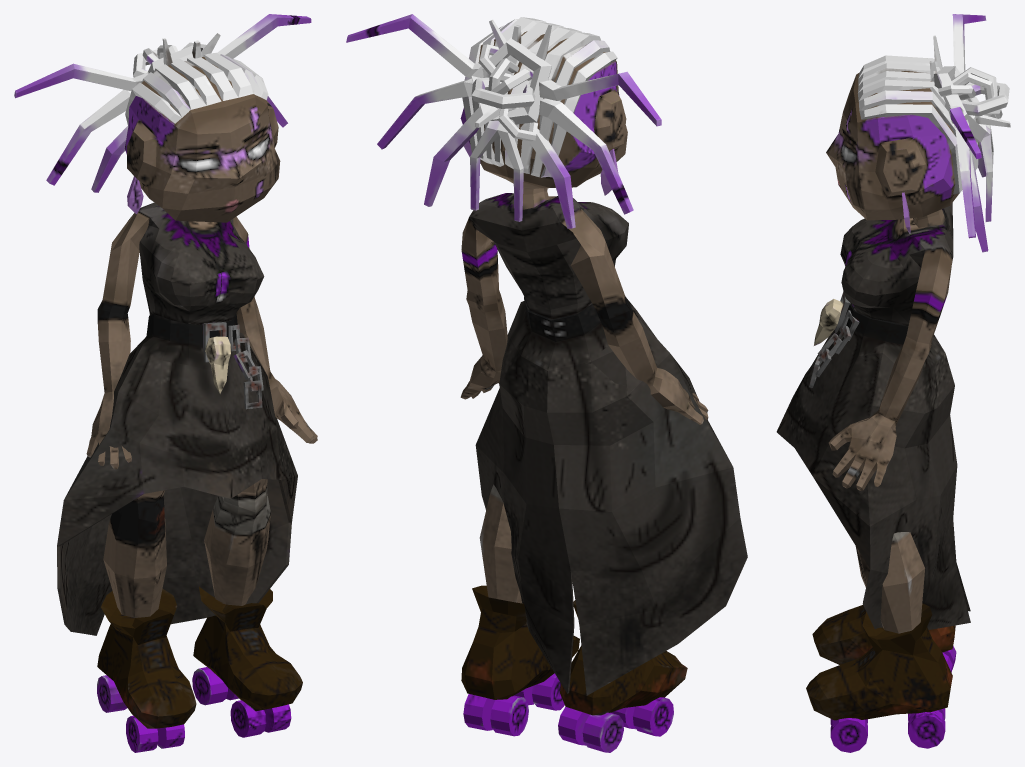
The model's file is bruja_000034.obj.
3 views of the same model, side by side, from view 1: azimuth 30°, elevation 25°; view 2: azimuth 150°, elevation 25°; view 3: azimuth 270°, elevation 25° (orthographic). The views are drawn at different scales.
Visible parts, largest first — view 1: Bruja_Plane.001; view 2: Bruja_Plane.001; view 3: Bruja_Plane.001.
Boxes of the visible parts, bbox=[...] form: Bruja_Plane.001: bbox=[14, 14, 317, 752]; Bruja_Plane.001: bbox=[346, 14, 747, 752]; Bruja_Plane.001: bbox=[776, 14, 1010, 752].
Bounding box in the file's own units: 7.96 × 16.43 × 5.13.
